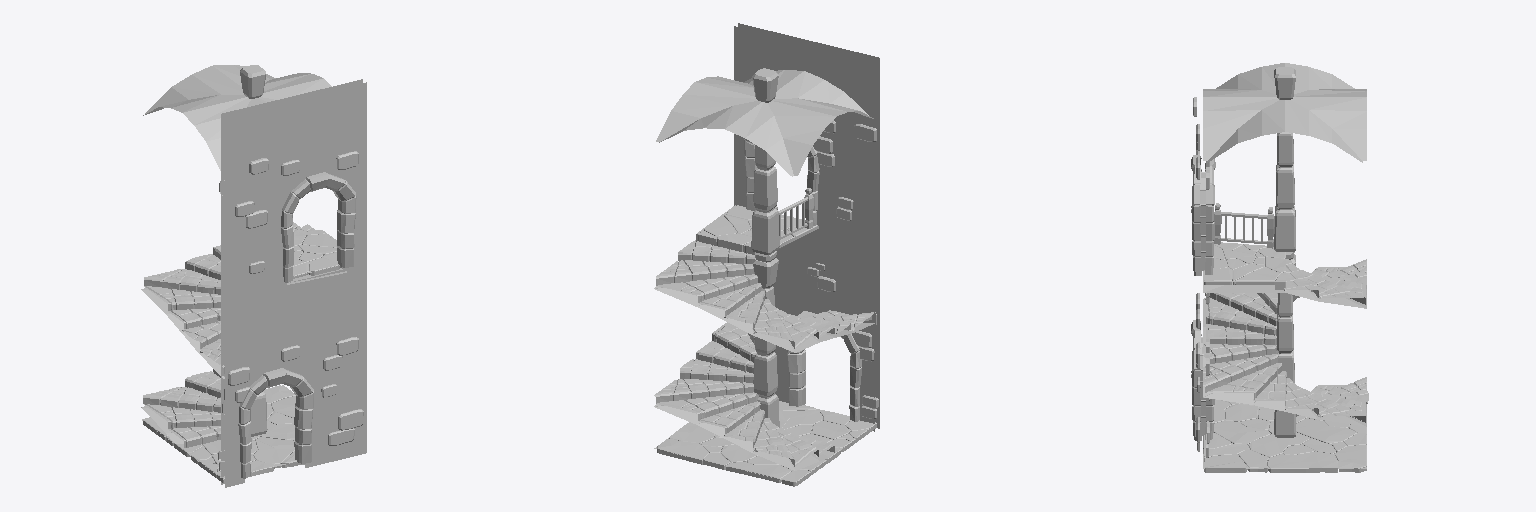
Rendered from Staircase.obj.
3 views of the same model, side by side, from view 1: azimuth 30°, elevation 25°; view 2: azimuth 150°, elevation 25°; view 3: azimuth 270°, elevation 25° (orthographic).
Visible parts, largest first — view 1: Staircase; view 2: Staircase; view 3: Staircase.
Part boxes in pixels (bbox=[...]): Staircase: bbox=[141, 65, 366, 487]; Staircase: bbox=[654, 23, 879, 486]; Staircase: bbox=[1191, 63, 1368, 472].
Size of the model in its own units: 4.16 by 10.03 by 4.35.